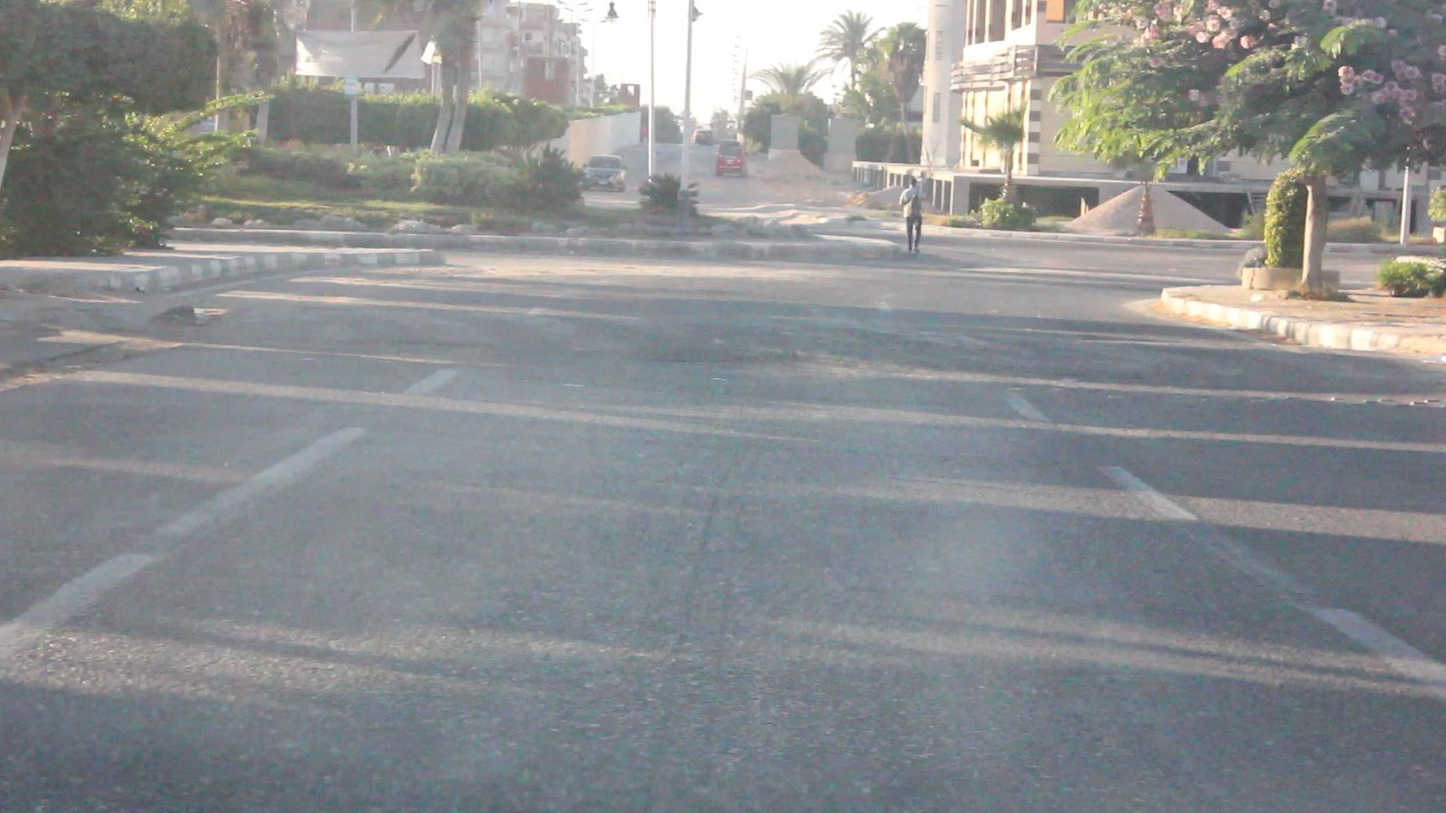Bump: (256, 282, 1322, 369)
